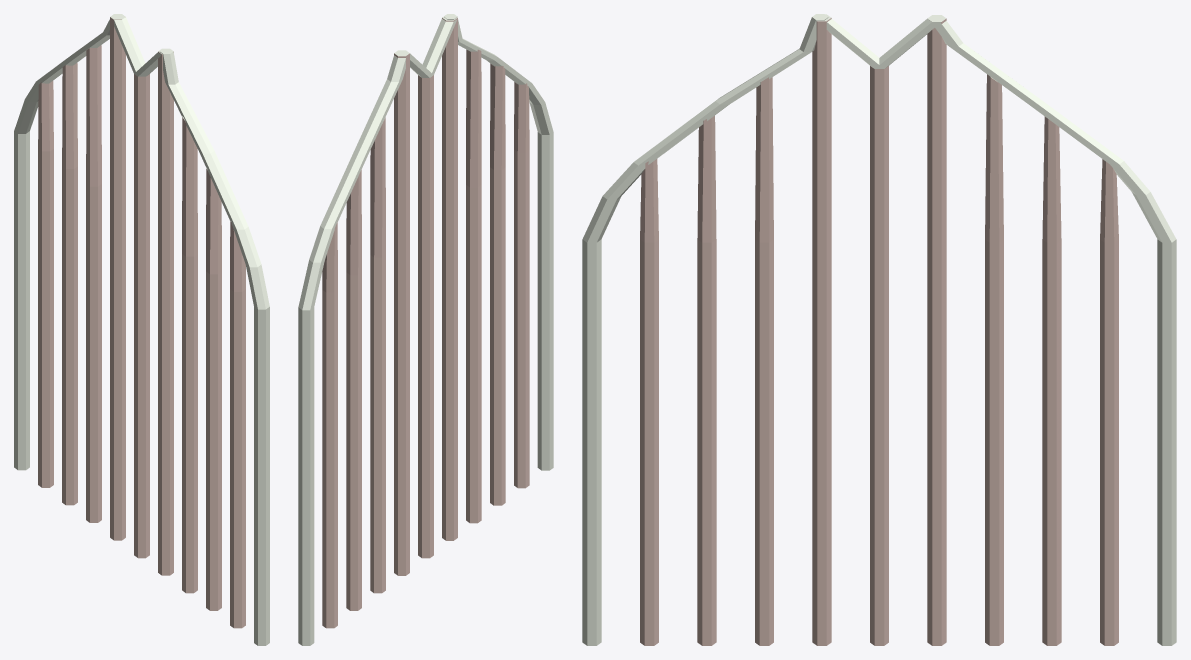
The model's file is Gate.fbx.
The picture shows the model from 3 angles, left to right: view 1: azimuth 30°, elevation 25°; view 2: azimuth 150°, elevation 25°; view 3: azimuth 270°, elevation 25°; orthographic projection. The views are drawn at different scales.
Parts seen in each view (by area): view 1: Cylinder.003, Cylinder.000; view 2: Cylinder.003, Cylinder.000; view 3: Cylinder.003, Cylinder.000.
Boxes of the visible parts, x1,y1,x2,y2 form: Cylinder.003: (38, 17, 245, 628); Cylinder.000: (14, 14, 269, 645); Cylinder.003: (322, 18, 529, 628); Cylinder.000: (298, 14, 553, 645); Cylinder.003: (640, 18, 1118, 645); Cylinder.000: (582, 14, 1176, 645).
Size of the model in its own units: 40.93 by 1596 by 1374.
